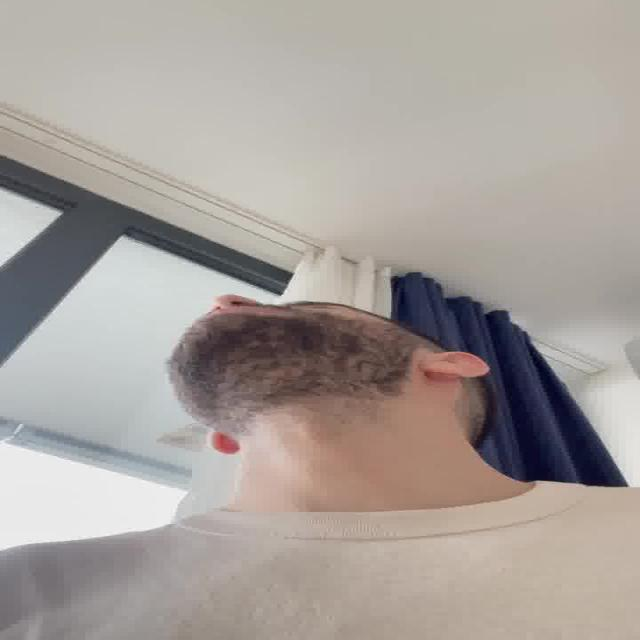earlobe: (416, 364, 471, 378), (206, 430, 237, 454)
nose: (205, 299, 264, 310)
wholeear: (419, 350, 489, 382)
